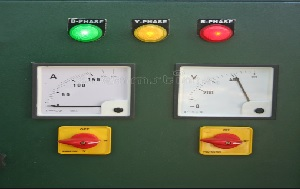Green_Led_On: (66, 22, 105, 45)
Red_Led_Off: (200, 20, 238, 47)
Yellow_Led_On: (129, 21, 170, 48)
